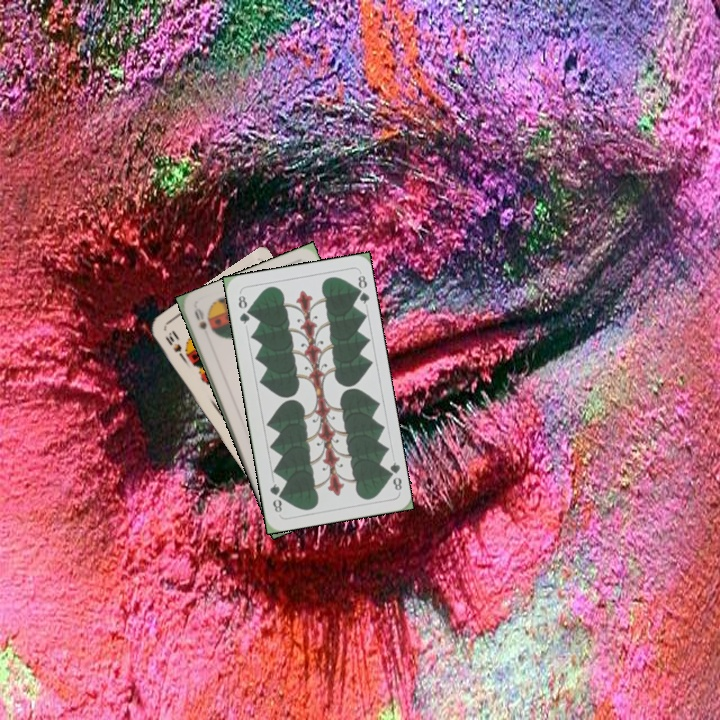G8: (382, 458, 405, 493), (234, 291, 252, 327)
S10: (161, 327, 188, 363)
SO: (190, 304, 209, 332)
